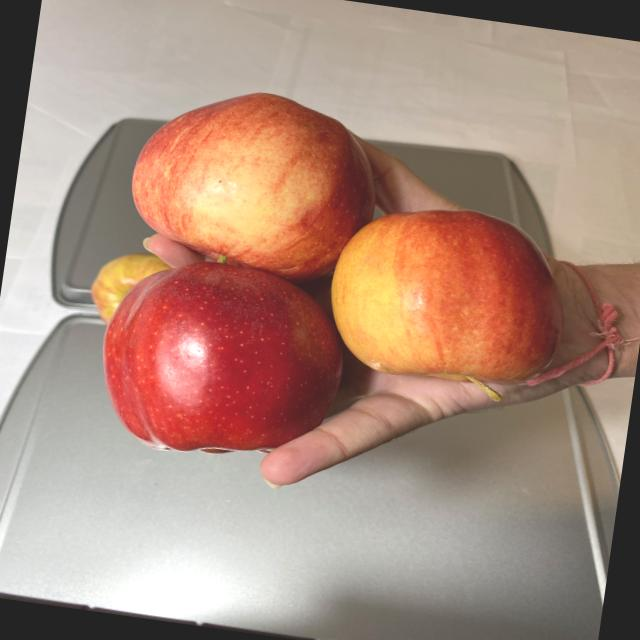apple: (68, 69, 598, 506)
